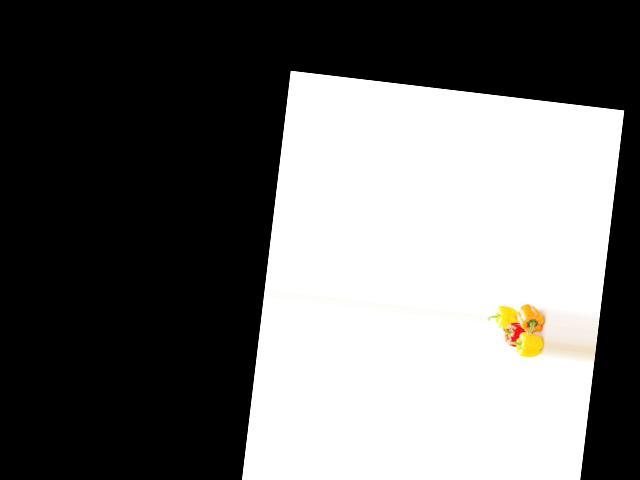bell_pepper: (510, 323, 545, 359)
